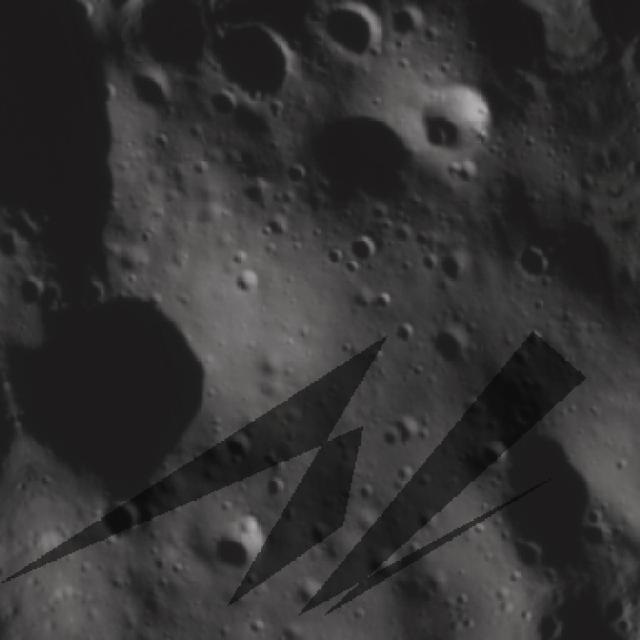crater: (380, 71, 505, 171), (201, 20, 307, 111), (204, 510, 276, 584), (318, 0, 394, 69), (93, 485, 152, 553), (498, 234, 560, 294), (604, 191, 640, 277), (422, 320, 475, 372), (474, 430, 528, 479), (338, 224, 380, 274)
